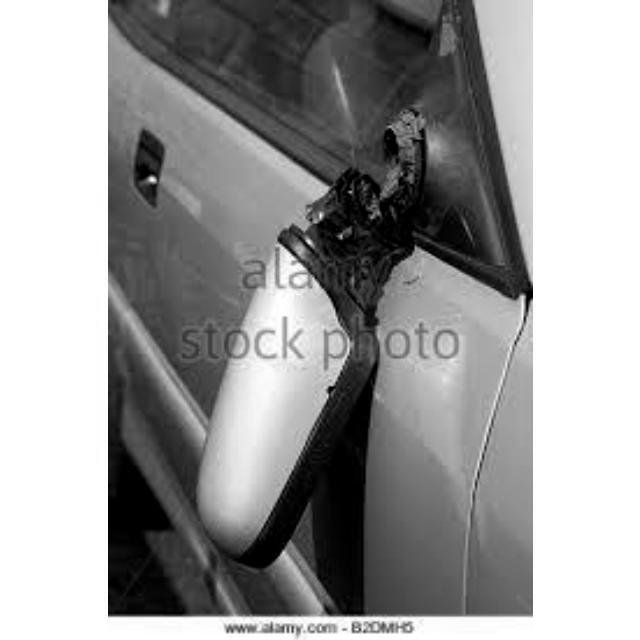Sidemirror-Damage: (209, 236, 378, 544), (195, 98, 463, 249)
